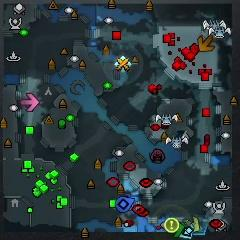Other: (114, 56, 131, 73), (165, 218, 178, 232)
p1: (115, 196, 135, 212)
p2: (180, 227, 194, 240)
x1: (20, 92, 40, 111)
x2: (185, 216, 200, 233)
x4: (169, 220, 183, 236)
x5: (197, 35, 214, 52)
